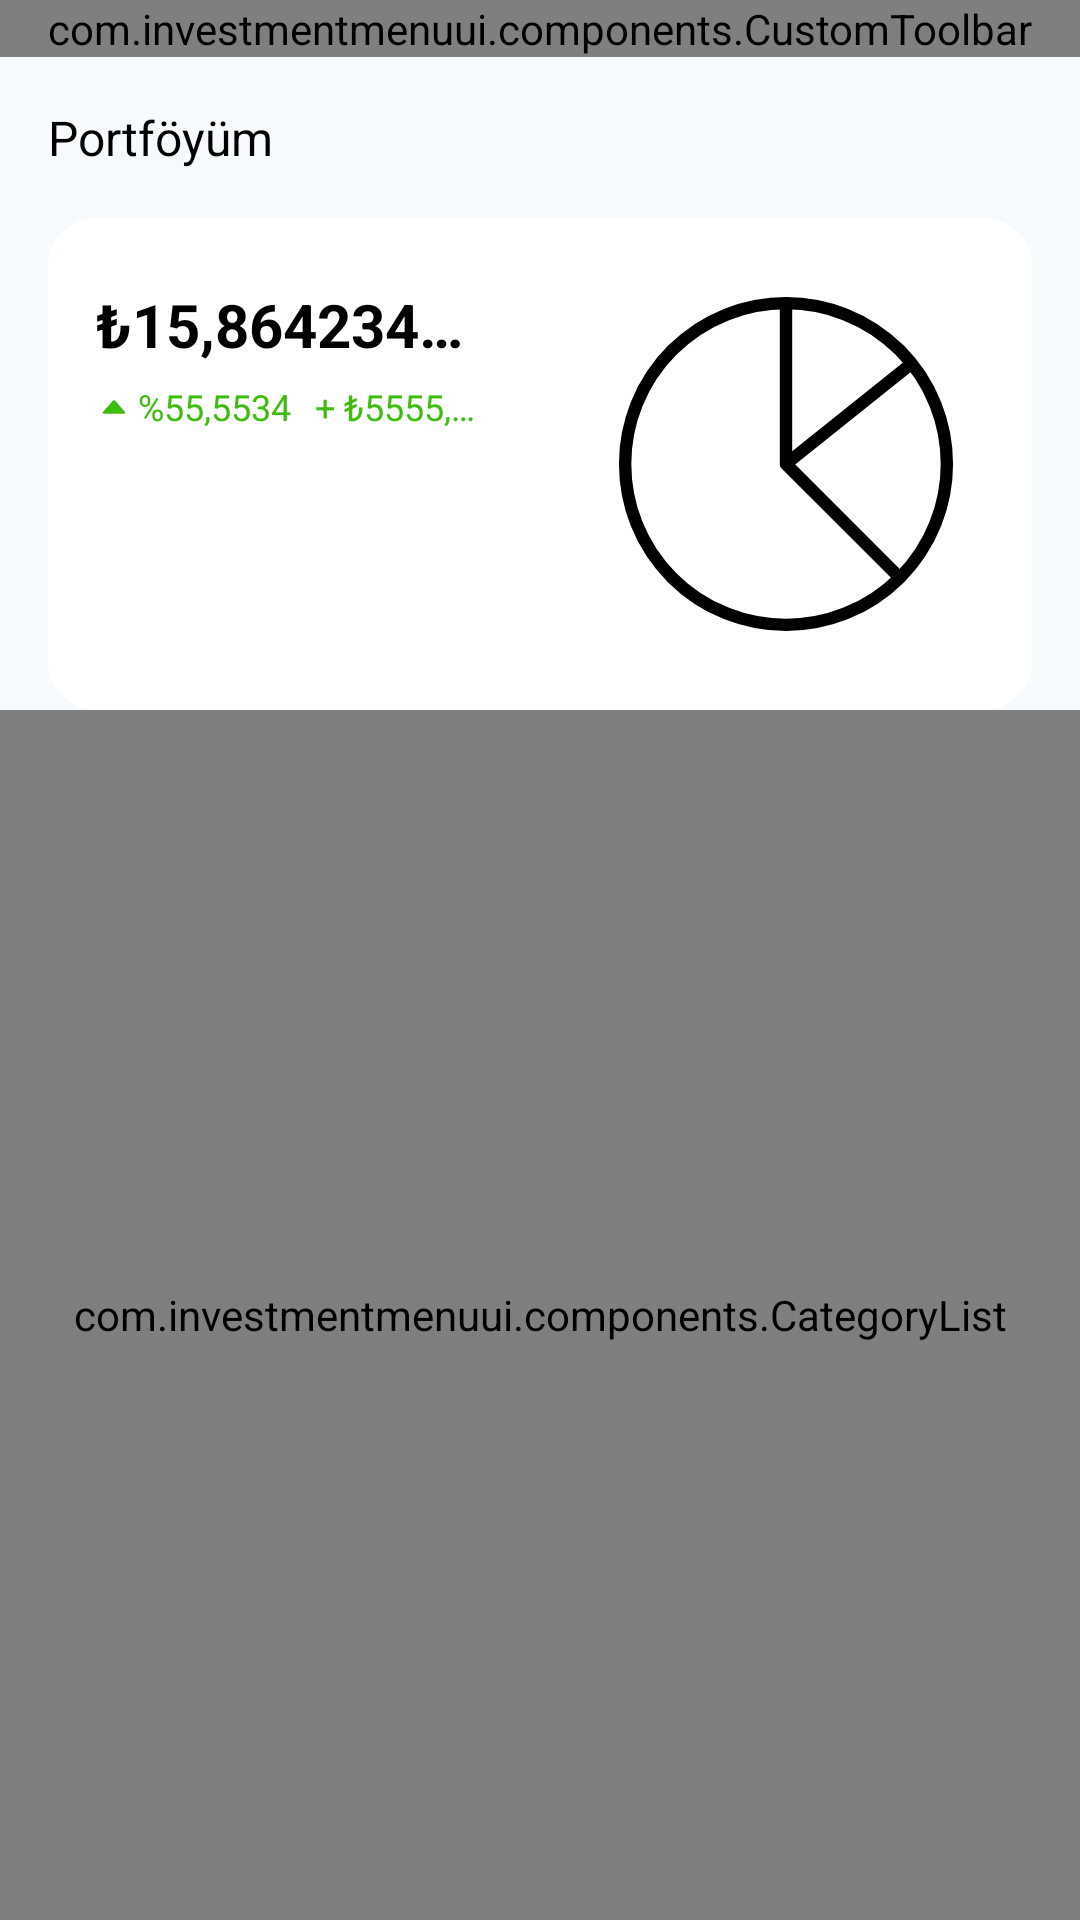

Icon bounding boxes for this 1080×1920 phone screenshot, format (x1, y1, x2, y2):
arrow up: (102, 400, 126, 414)
pie chart: (619, 297, 953, 631)
